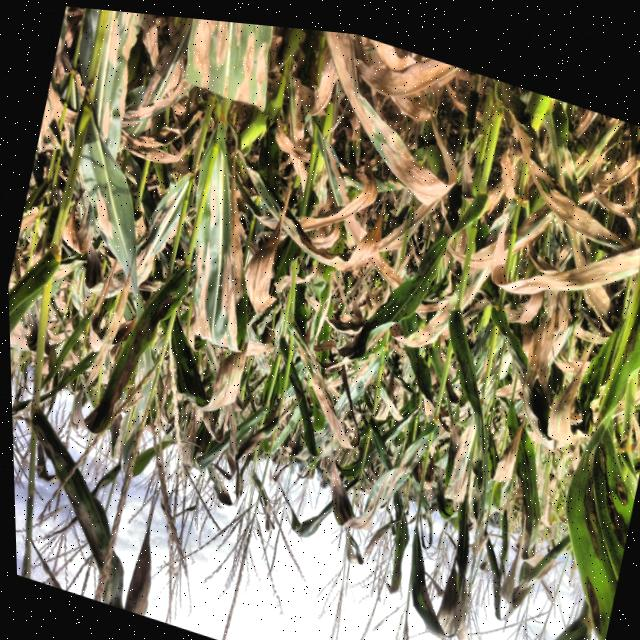blight: (182, 18, 288, 121)
